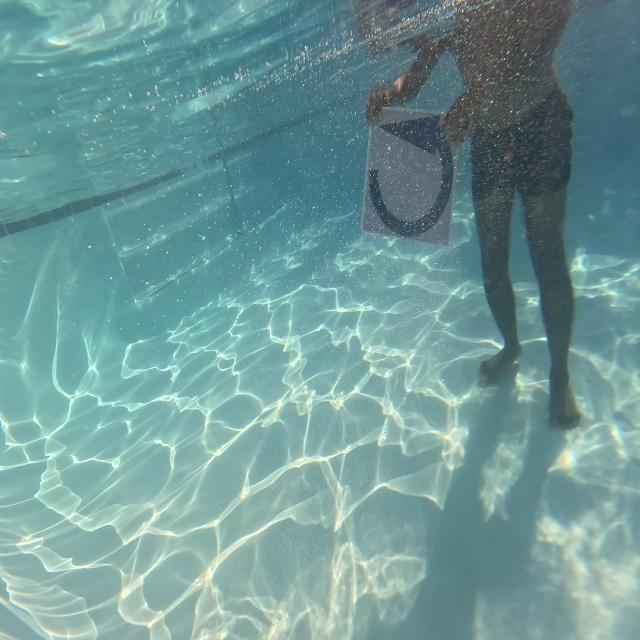blue_side: (353, 77, 462, 262)
